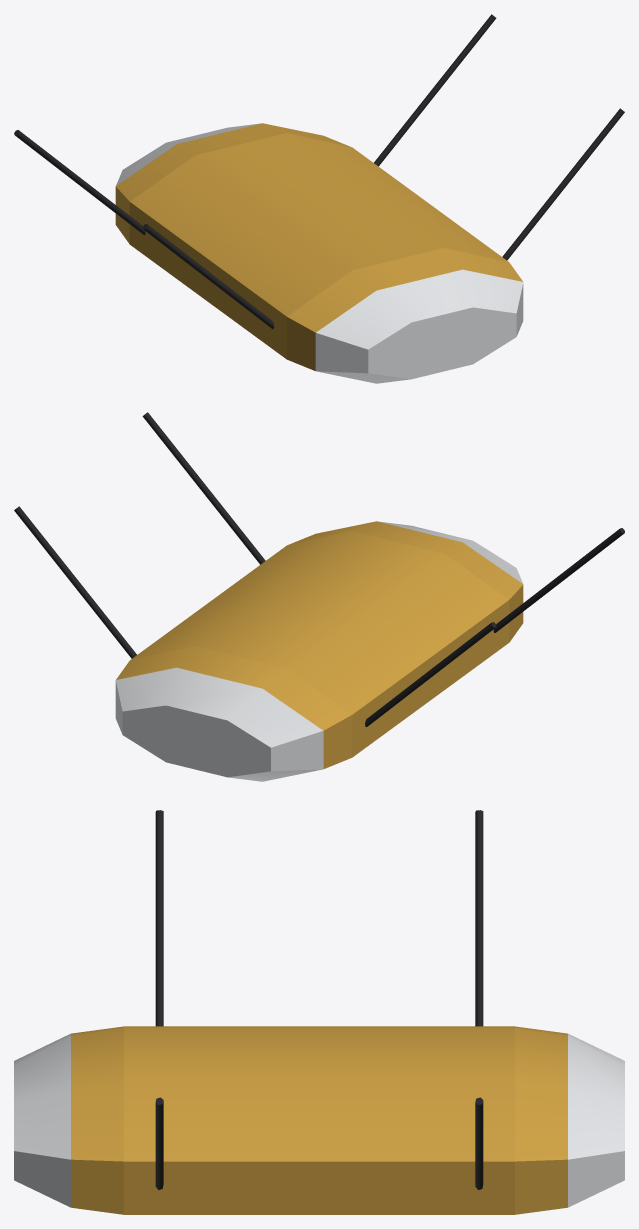
The model's file is hr1_board.obj.
3 views of the same model, one above another, from view 1: azimuth 30°, elevation 25°; view 2: azimuth 150°, elevation 25°; view 3: azimuth 270°, elevation 25° (orthographic). The views are drawn at different scales.
Visible parts, largest first — view 1: hr1_board; view 2: hr1_board; view 3: hr1_board.
Part boxes in pixels (x1,y1,x2,y2): hr1_board: (14, 14, 624, 383); hr1_board: (14, 412, 624, 781); hr1_board: (14, 810, 624, 1214).
Size of the model in its own units: 1.95 by 0.7183 by 1.72.
